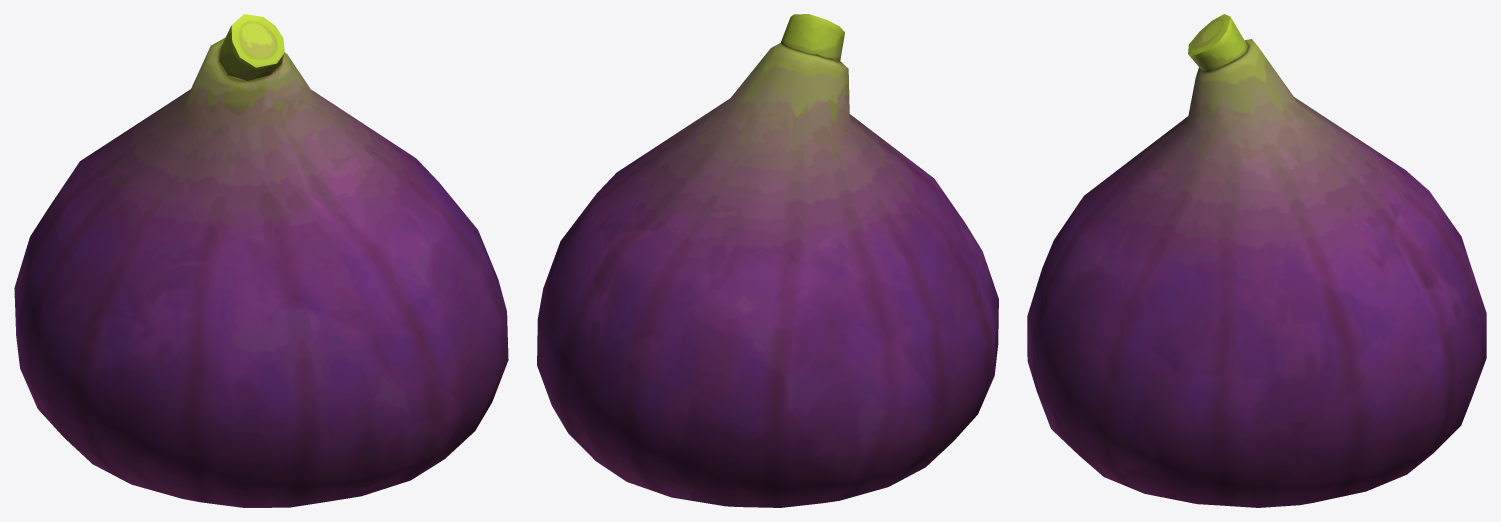
The model's file is SM_Fig.fbx.
3 views of the same model, side by side, from view 1: azimuth 30°, elevation 25°; view 2: azimuth 150°, elevation 25°; view 3: azimuth 270°, elevation 25° (orthographic). The views are drawn at different scales.
Parts seen in each view (by area): view 1: SM_Fig; view 2: SM_Fig; view 3: SM_Fig.
Part boxes in pixels (x1=…): SM_Fig: x1=14, y1=14, x2=508, y2=507; SM_Fig: x1=537, y1=14, x2=998, y2=507; SM_Fig: x1=1027, y1=14, x2=1486, y2=507.
Size of the model in its own units: 10.89 by 11.32 by 11.03.
